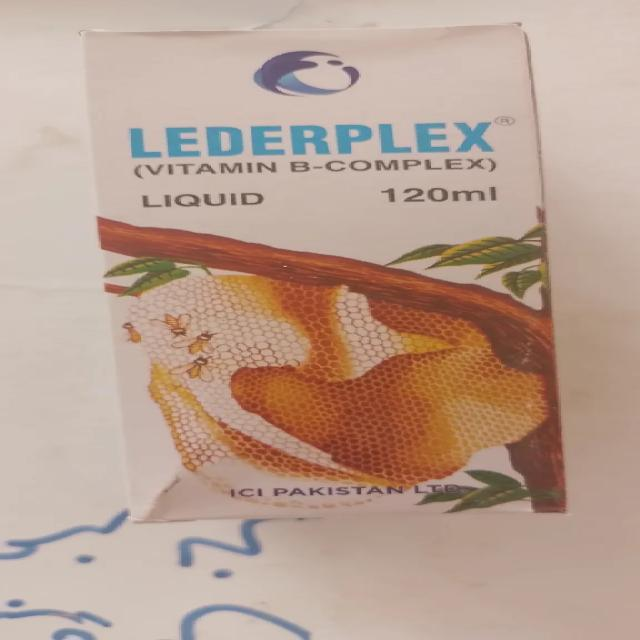drug-name: (125, 118, 512, 157)
